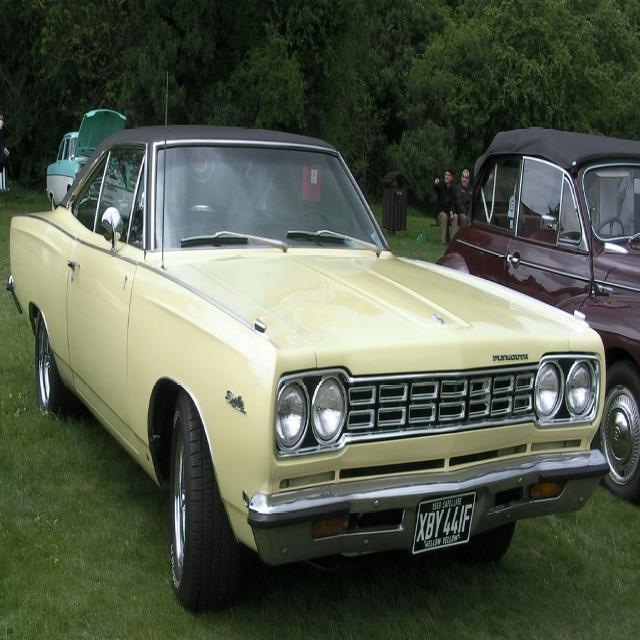car: (15, 133, 616, 595)
